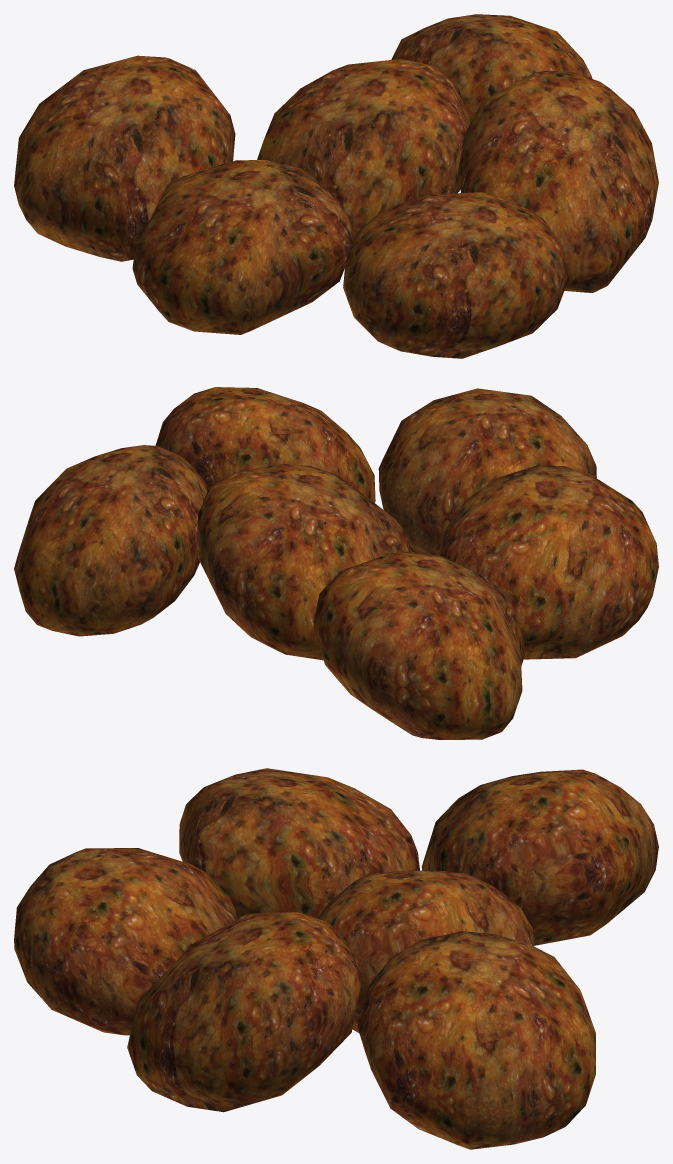
The model's file is Falafel.FBX.
The picture shows the model from 3 angles, top to bottom: view 1: azimuth 30°, elevation 25°; view 2: azimuth 150°, elevation 25°; view 3: azimuth 270°, elevation 25°; orthographic projection. The views are drawn at different scales.
Parts seen in each view (by area): view 1: falafel; view 2: falafel; view 3: falafel.
Boxes of the visible parts, bbox=[...] form: falafel: bbox=[14, 14, 658, 358]; falafel: bbox=[14, 387, 658, 739]; falafel: bbox=[14, 768, 658, 1149].
Bounding box in the file's own units: 12.72 × 3.98 × 12.4.
Materials: 1 (1 with a texture image).
